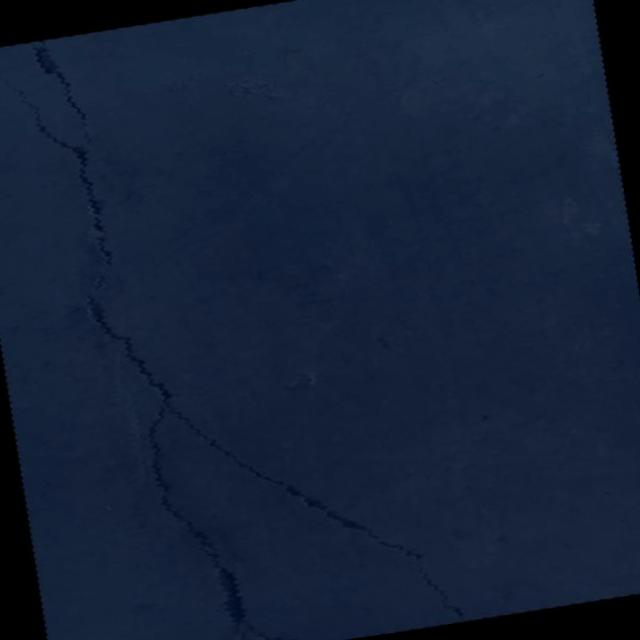crack: (0, 5, 465, 640), (31, 36, 92, 152)
